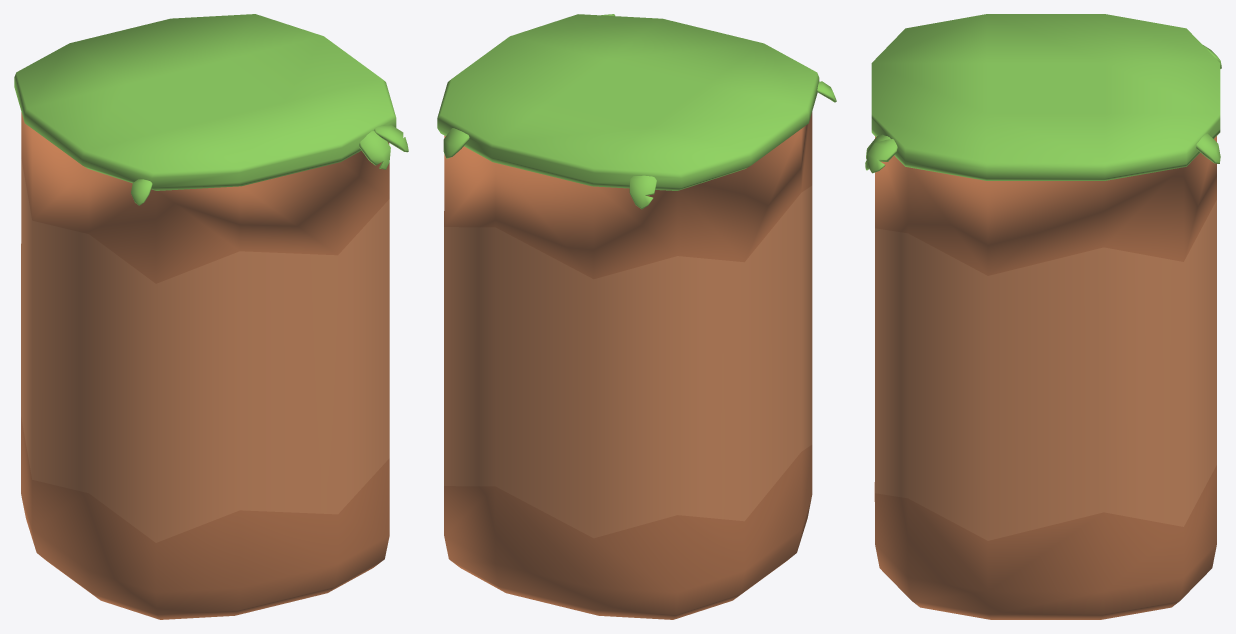
File: platform_03.glb
3 views of the same model, side by side, from view 1: azimuth 30°, elevation 25°; view 2: azimuth 150°, elevation 25°; view 3: azimuth 270°, elevation 25° (orthographic). The views are drawn at different scales.
Parts seen in each view (by area): view 1: platform 01_toon_material_0.005; view 2: platform 01_toon_material_0.005; view 3: platform 01_toon_material_0.005.
Boxes of the visible parts, x1,y1,x2,y2 form: platform 01_toon_material_0.005: (14, 14, 408, 619); platform 01_toon_material_0.005: (437, 14, 836, 619); platform 01_toon_material_0.005: (865, 14, 1221, 619).
Bounding box in the file's own units: 2.09 × 3 × 2.08.
